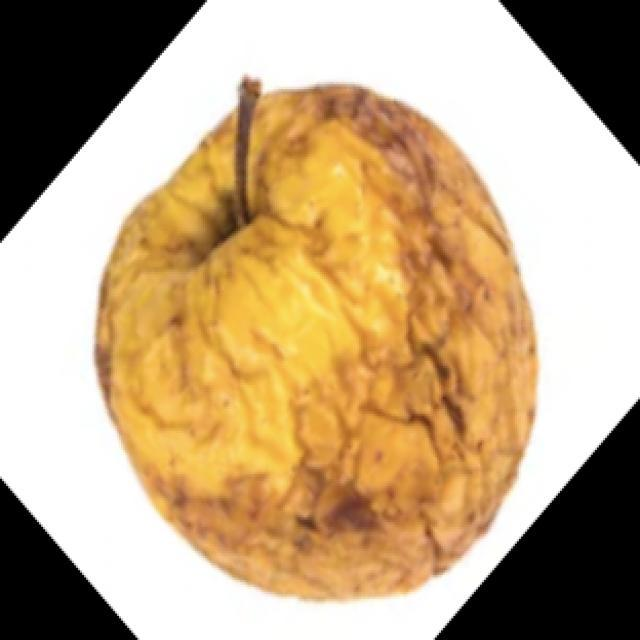Rotten: (92, 65, 535, 587)
